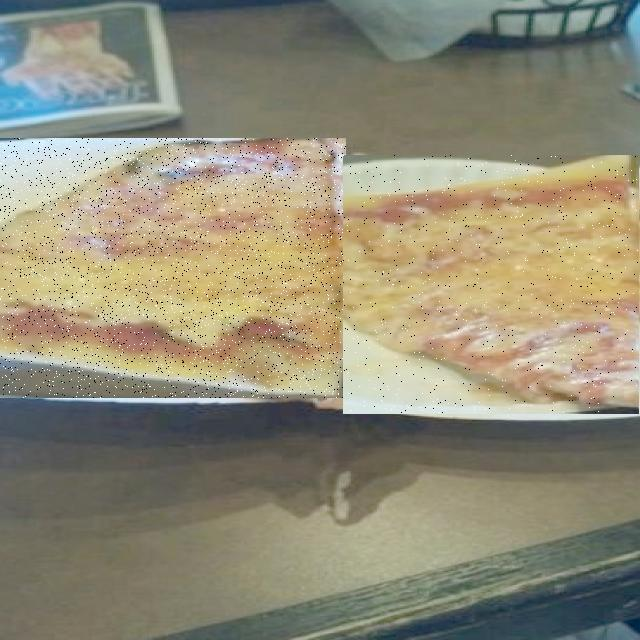Pizza: (0, 138, 346, 398), (344, 156, 638, 413)
